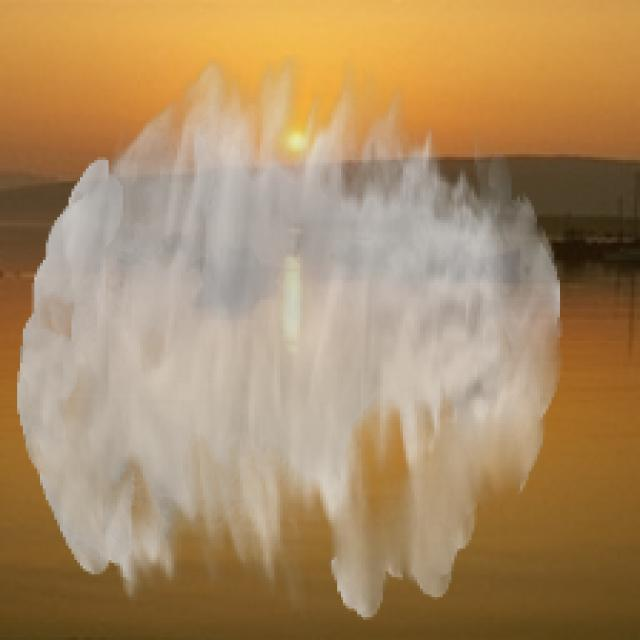Smoke: (17, 54, 563, 620)
